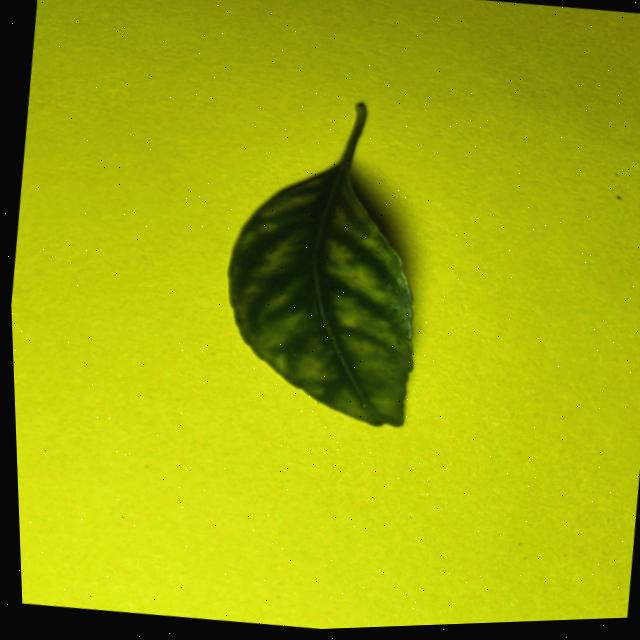greening: (228, 105, 412, 426)
